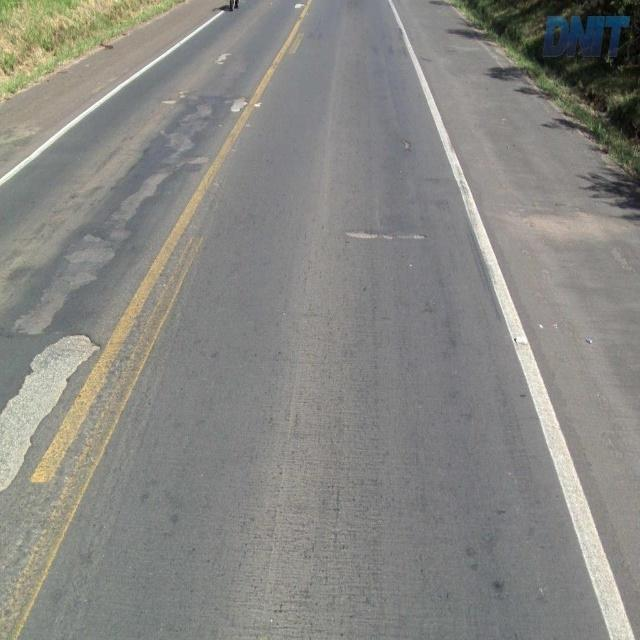pothole: (0, 324, 101, 489), (342, 227, 429, 244), (402, 135, 411, 152)
